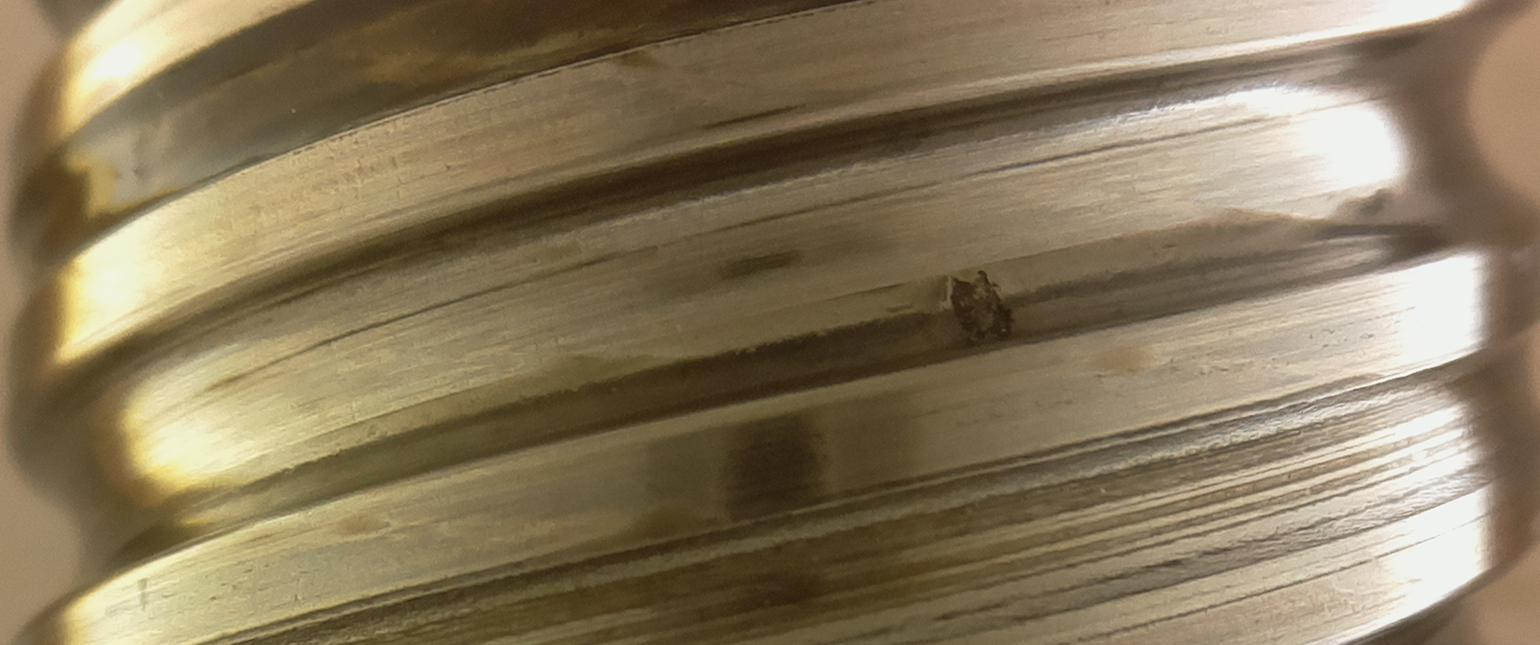pitting: (950, 270, 1013, 347)
